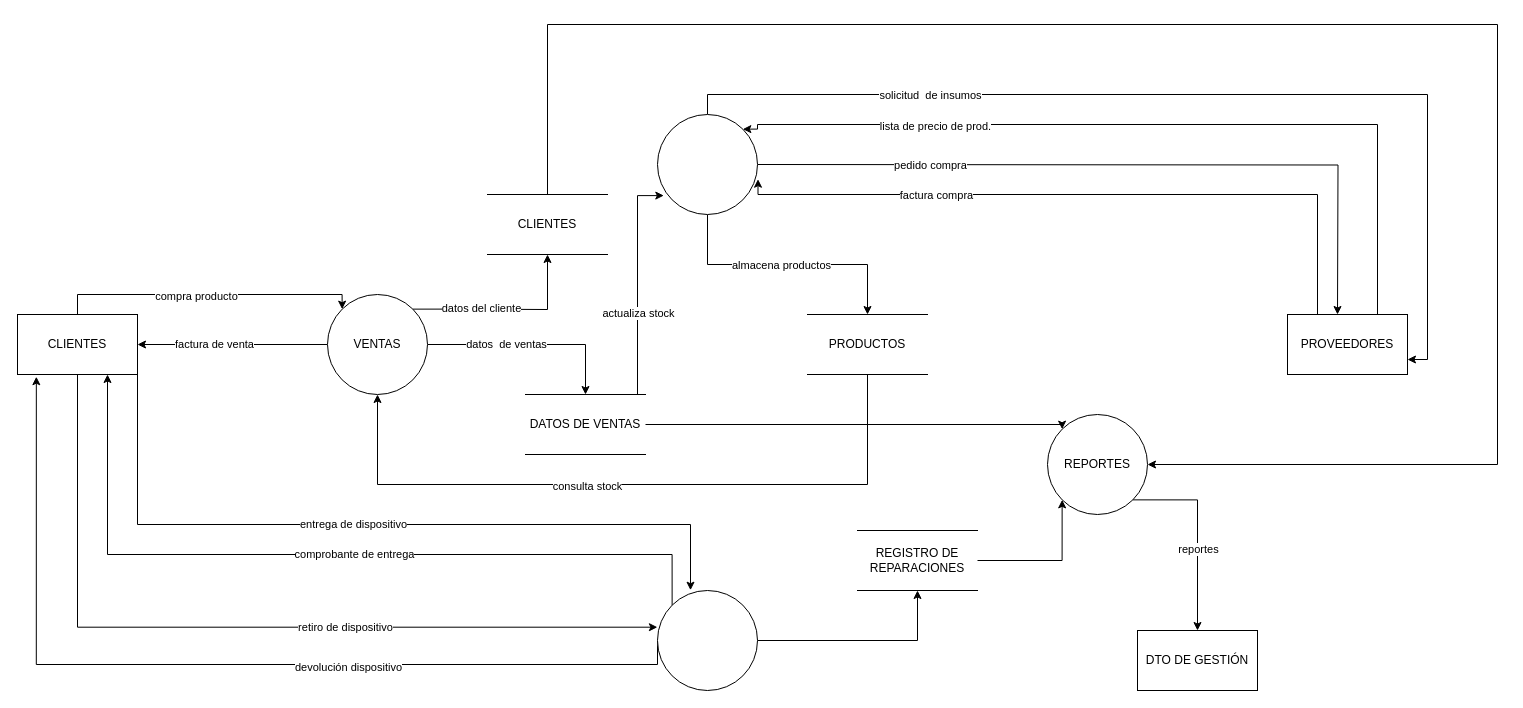
The diagram is 1523 pixels wide and 708 high, and some of its shapes have lost their labels. The centre of each missing label's shape, as x and y in pixels:
CONTROL DE INVENTARIO: pixel 707 164
REPARACIONES: pixel 707 640
